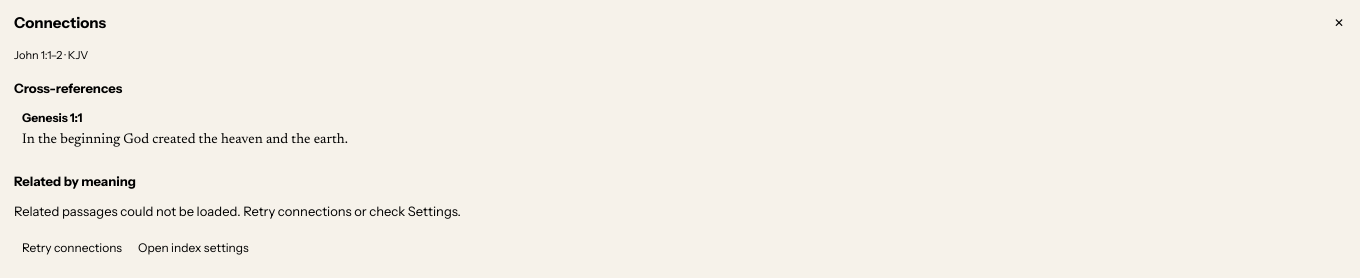
verse connections › retries a failed meaning lookup while keeping curated previews available
Expected: the text "In the beginning God created the heaven and the earth." is shown, [22, 132, 348, 146]
Click the button "Retry connections".
click(72, 248)  # box [14, 234, 130, 261]
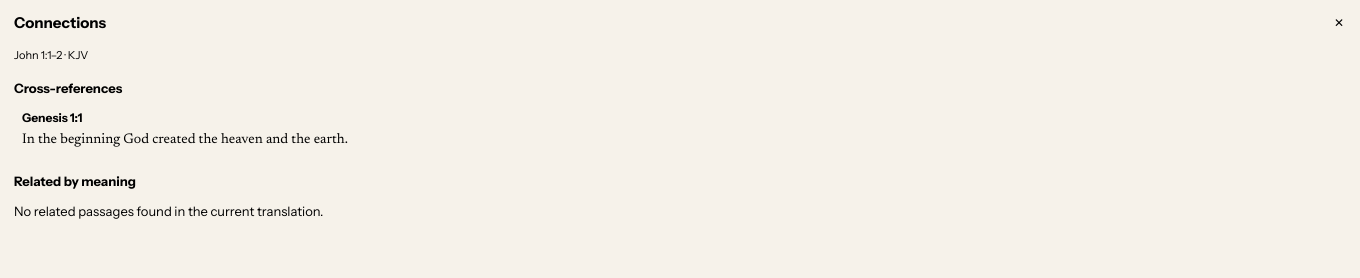
Result: the text "No related passages found" is shown at [14, 203, 323, 219]
Result: the text "could not be loaded" is gone
